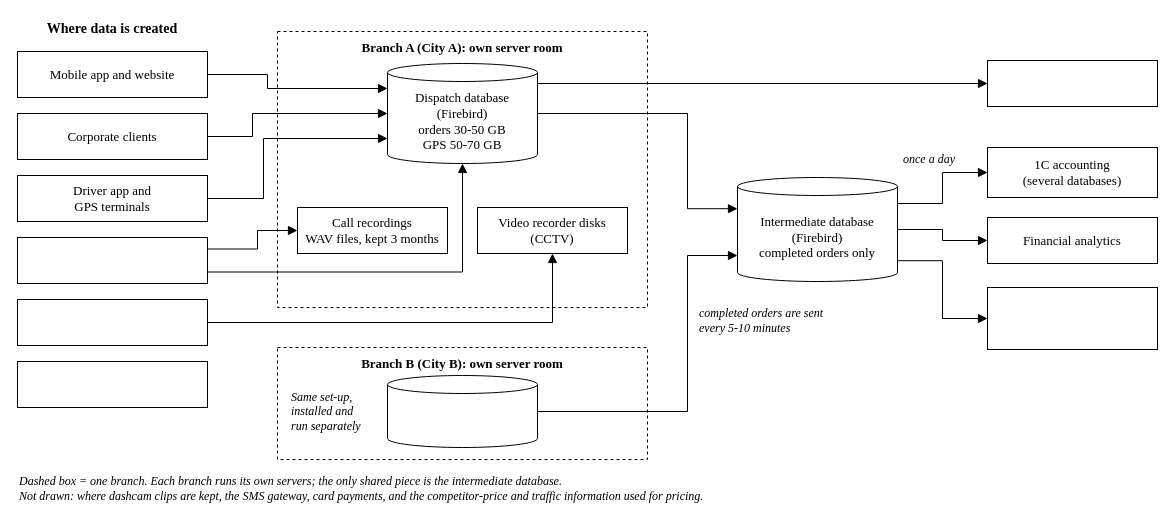
The diagram is 1175 pixels wide and 524 high, and some of its shapes have lost their labels. Each missing label, with the centre of its shape:
Built-in reports (operations): the point at 1072,83
Call centre (operators and PBX): the point at 112,260
Dashcams in own cars: the point at 112,384
Dispatch database (Firebird): the point at 462,411
Monthly reports: exported, then assembled by hand: the point at 1072,318
Office CCTV cameras: the point at 112,322
